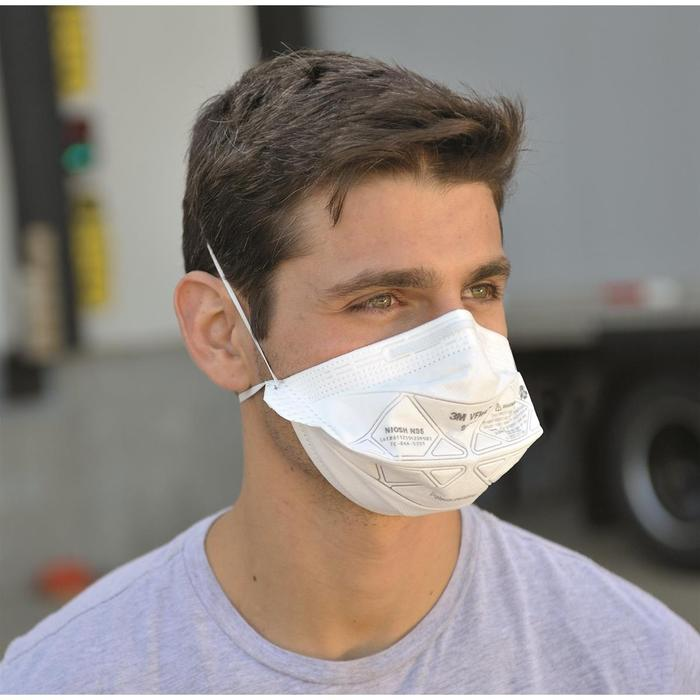n95: (256, 317, 571, 517)
